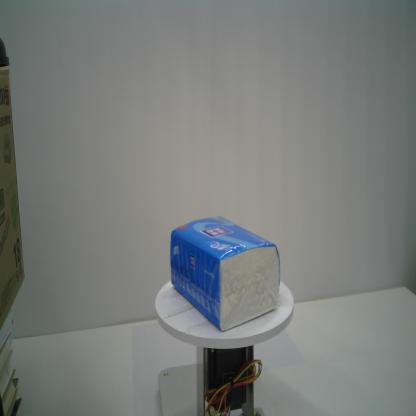Tissue: (170, 217, 281, 332)
